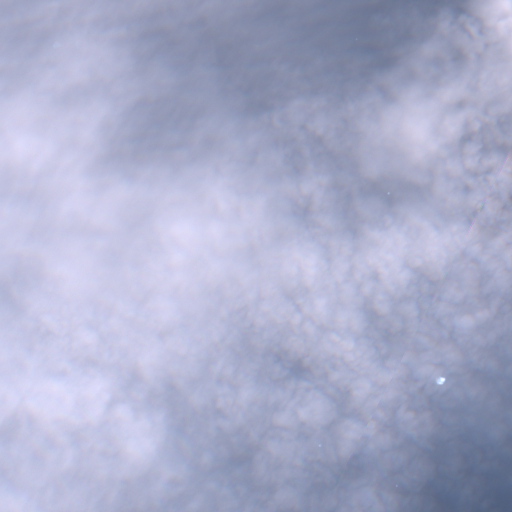Iceberg: (437, 378, 444, 383), (319, 445, 320, 446)
